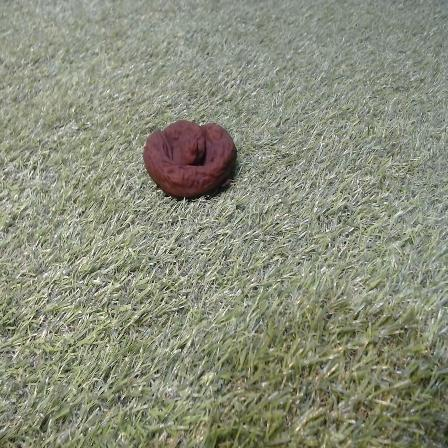dog-poop: (134, 117, 241, 194)
